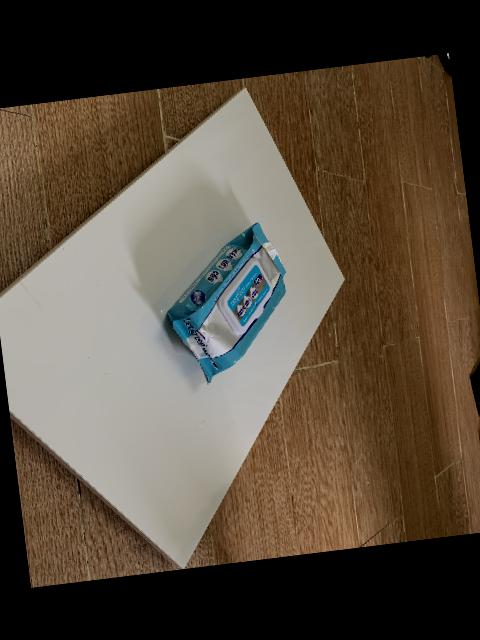Let-green_alcohol_wipes: (166, 222, 286, 385)
